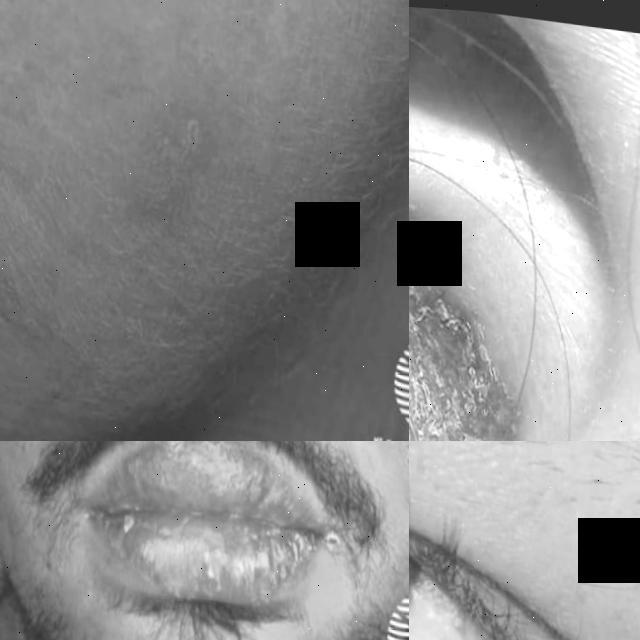lupus-detected: (44, 32, 276, 285), (409, 200, 589, 441)
